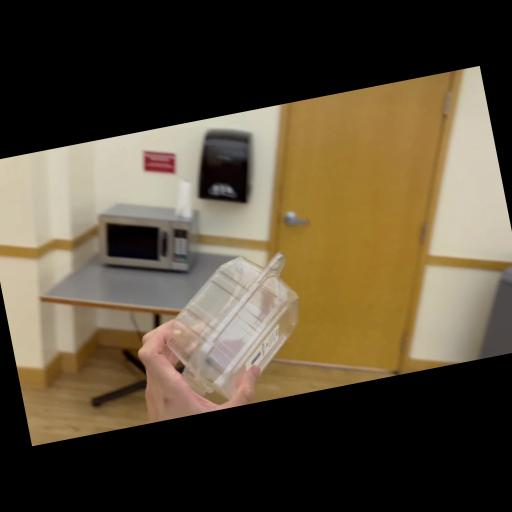small_plastic_container: (128, 238, 322, 418)
